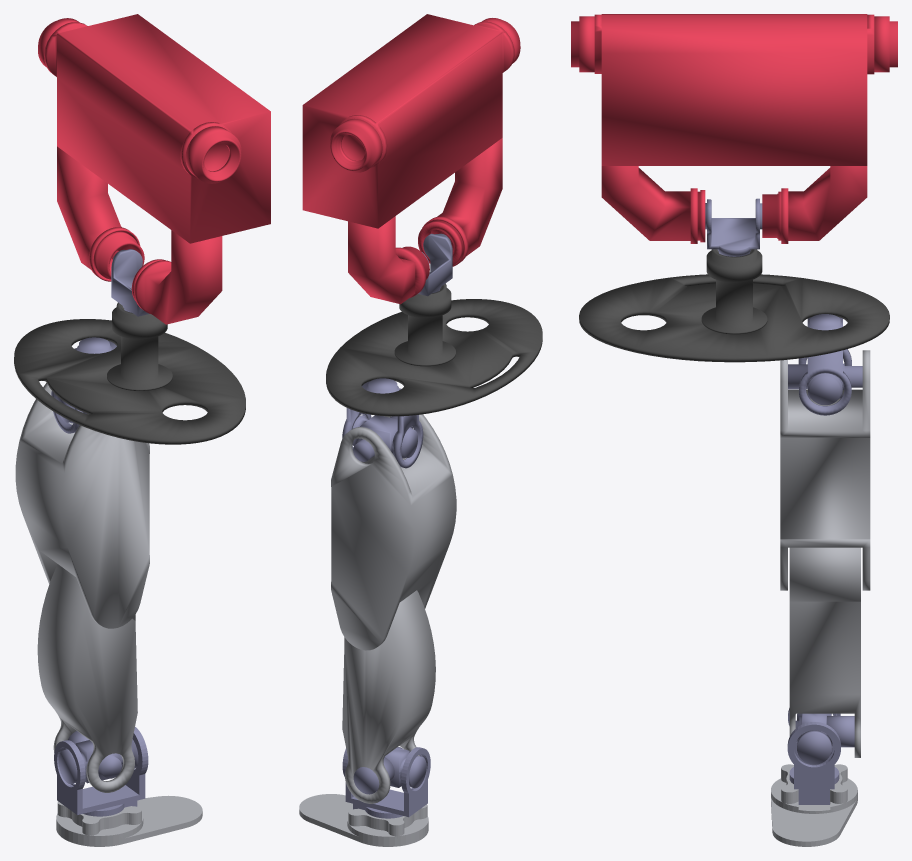
The model's file is teo_leftLeg.glb.
3 views of the same model, side by side, from view 1: azimuth 30°, elevation 25°; view 2: azimuth 150°, elevation 25°; view 3: azimuth 270°, elevation 25° (orthographic). The views are drawn at different scales.
Visible parts, largest first — view 1: node.016, FrontalLeftHip, node, FrontalLeftKnee, LeftFoot, SagittalLeftAnkle, FrontalLeftAnkle, node.015, AxialLeftHip; view 2: node.016, FrontalLeftHip, node, FrontalLeftKnee, LeftFoot, SagittalLeftAnkle, AxialLeftHip, FrontalLeftAnkle, SagittalLeftHip, node.015; view 3: node.016, node, FrontalLeftHip, FrontalLeftKnee, LeftFoot, SagittalLeftAnkle, AxialLeftHip, node.015, FrontalLeftAnkle, SagittalLeftHip.
Part boxes in pixels (<box>): node.016: <box>38,14,270,324</box>; FrontalLeftHip: <box>15,382,149,628</box>; node: <box>14,302,245,444</box>; FrontalLeftKnee: <box>37,564,137,792</box>; LeftFoot: <box>56,795,202,846</box>; SagittalLeftAnkle: <box>54,727,148,816</box>; FrontalLeftAnkle: <box>58,731,138,784</box>; node.015: <box>111,249,149,316</box>; AxialLeftHip: <box>51,337,116,433</box>; node.016: <box>302,14,520,304</box>; FrontalLeftHip: <box>331,414,456,650</box>; node: <box>326,283,542,416</box>; FrontalLeftKnee: <box>342,590,435,803</box>; LeftFoot: <box>299,794,428,846</box>; SagittalLeftAnkle: <box>342,747,430,818</box>; AxialLeftHip: <box>342,378,423,468</box>; FrontalLeftAnkle: <box>353,747,426,794</box>; SagittalLeftHip: <box>352,415,417,461</box>; node.015: <box>418,233,452,296</box>; node.016: <box>571,14,897,243</box>; node: <box>579,249,889,362</box>; FrontalLeftHip: <box>780,350,870,590</box>; FrontalLeftKnee: <box>789,547,860,757</box>; LeftFoot: <box>771,764,857,846</box>; SagittalLeftAnkle: <box>787,708,840,804</box>; AxialLeftHip: <box>798,314,851,415</box>; node.015: <box>705,198,762,256</box>; FrontalLeftAnkle: <box>795,713,854,764</box>; SagittalLeftHip: <box>788,363,862,405</box>.
Size of the model in its own units: 0.3533 by 1.39 by 0.5258.
